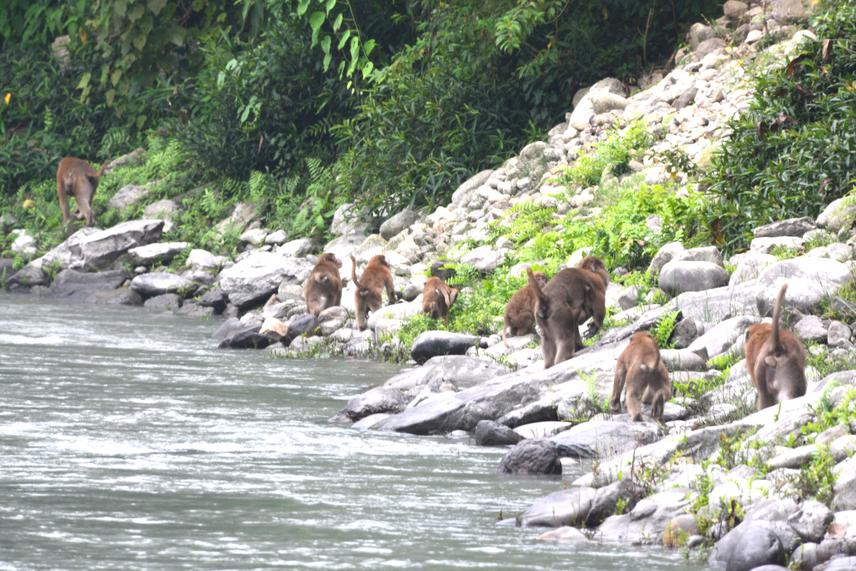monkey: (734, 271, 823, 427), (528, 250, 619, 380), (604, 325, 689, 439), (50, 153, 116, 244), (347, 244, 400, 339), (494, 265, 551, 350), (408, 265, 470, 335), (294, 248, 346, 323)
